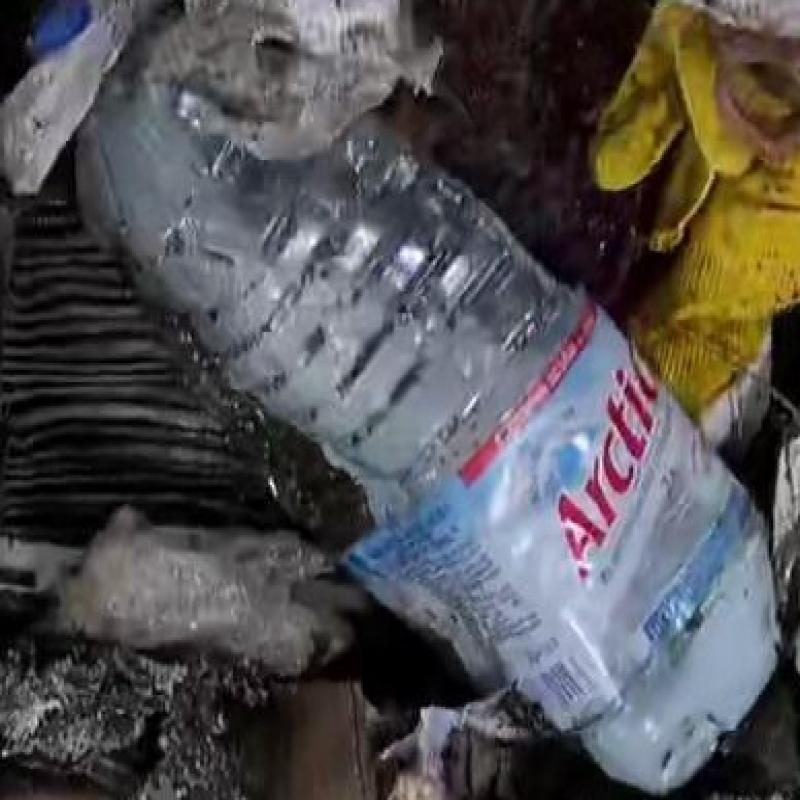botella: (31, 2, 800, 800)
